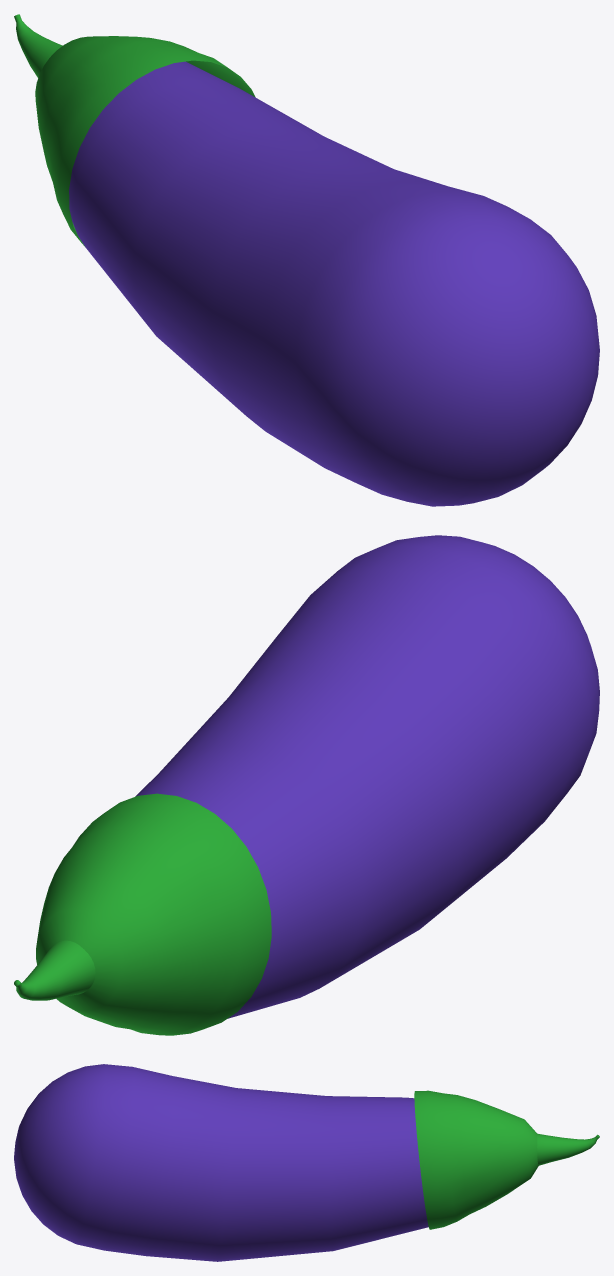
File: eggplant.fbx
3 renders of one model, top to bottom at view 1: azimuth 30°, elevation 25°; view 2: azimuth 150°, elevation 25°; view 3: azimuth 270°, elevation 25°, orthographic. The views are drawn at different scales.
Parts seen in each view (by area): view 1: eggplant; view 2: eggplant; view 3: eggplant.
Boxes of the visible parts, bbox=[...] form: eggplant: bbox=[14, 14, 599, 506]; eggplant: bbox=[14, 535, 599, 1035]; eggplant: bbox=[14, 1064, 599, 1261].
Bounding box in the file's own units: 199 × 214 × 629.
